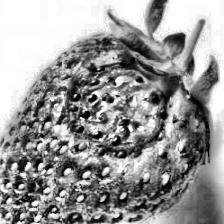Anthracnose Fruit Rot: (51, 48, 189, 175)
